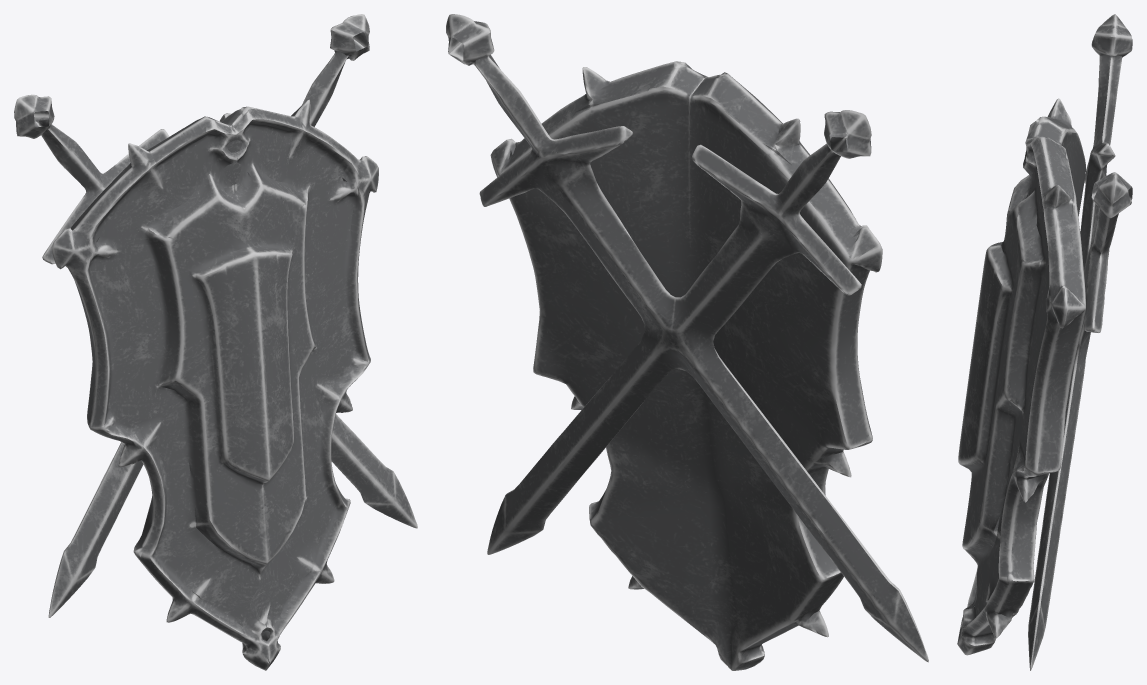
3 renders of one model, left to right at view 1: azimuth 30°, elevation 25°; view 2: azimuth 150°, elevation 25°; view 3: azimuth 270°, elevation 25°, orthographic. The views are drawn at different scales.
Size of the model in its own units: 0.9406 by 1.37 by 0.3887.
Materials: 1 (1 with a texture image).
